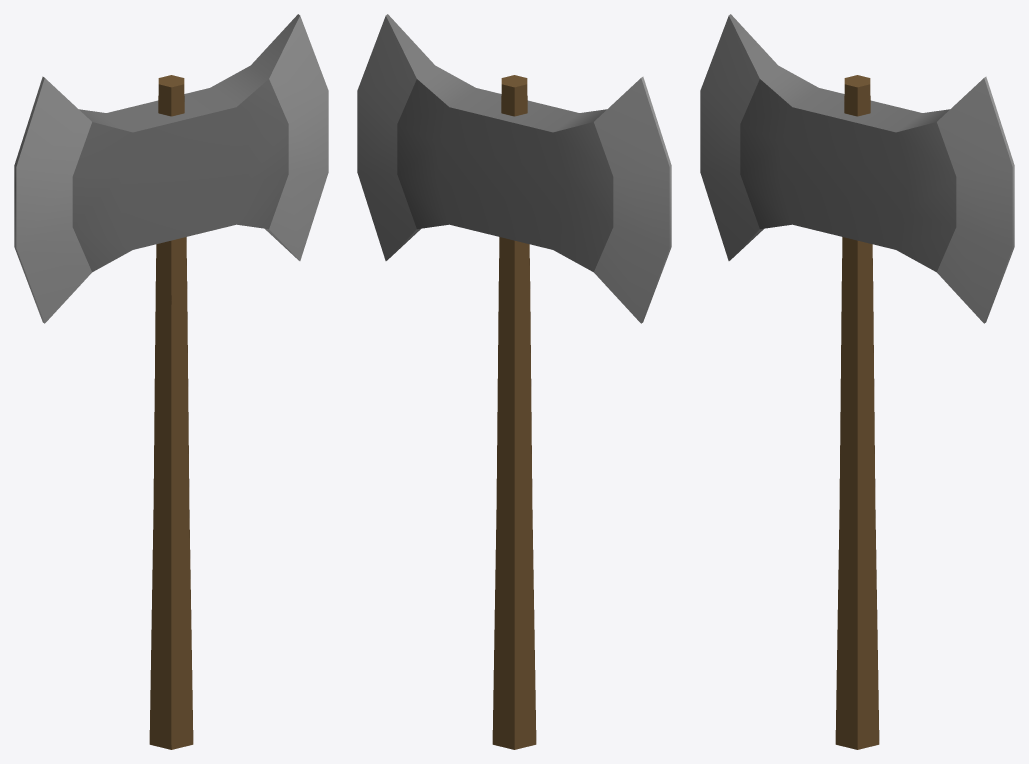
Rendered from BATTLEAXE.fbx.
The picture shows the model from 3 angles, left to right: view 1: azimuth 30°, elevation 25°; view 2: azimuth 150°, elevation 25°; view 3: azimuth 330°, elevation 25°; orthographic projection.
Parts seen in each view (by area): view 1: BATTLEAX; view 2: BATTLEAX; view 3: BATTLEAX.
Part boxes in pixels (<box>): BATTLEAX: <box>14,14,328,749</box>; BATTLEAX: <box>357,14,671,749</box>; BATTLEAX: <box>700,14,1014,749</box>.
Bounding box in the file's own units: 0.9409 × 2 × 0.1382.
